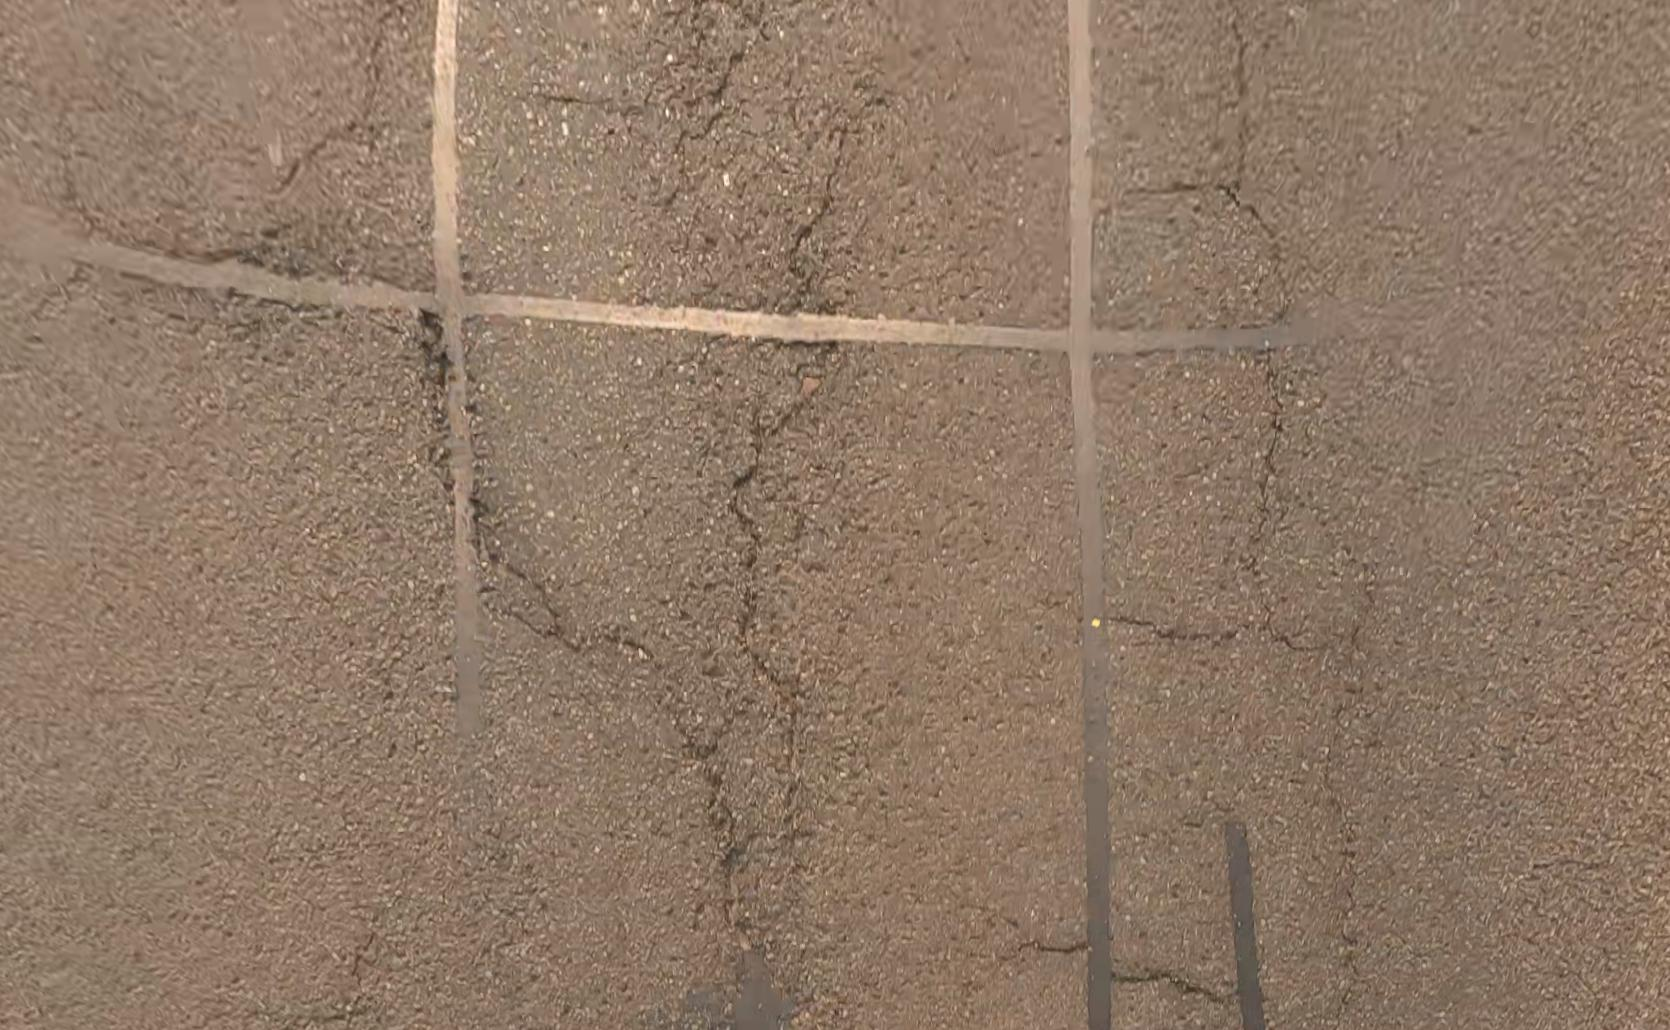pothole_patch_good: (675, 951, 806, 1028)
